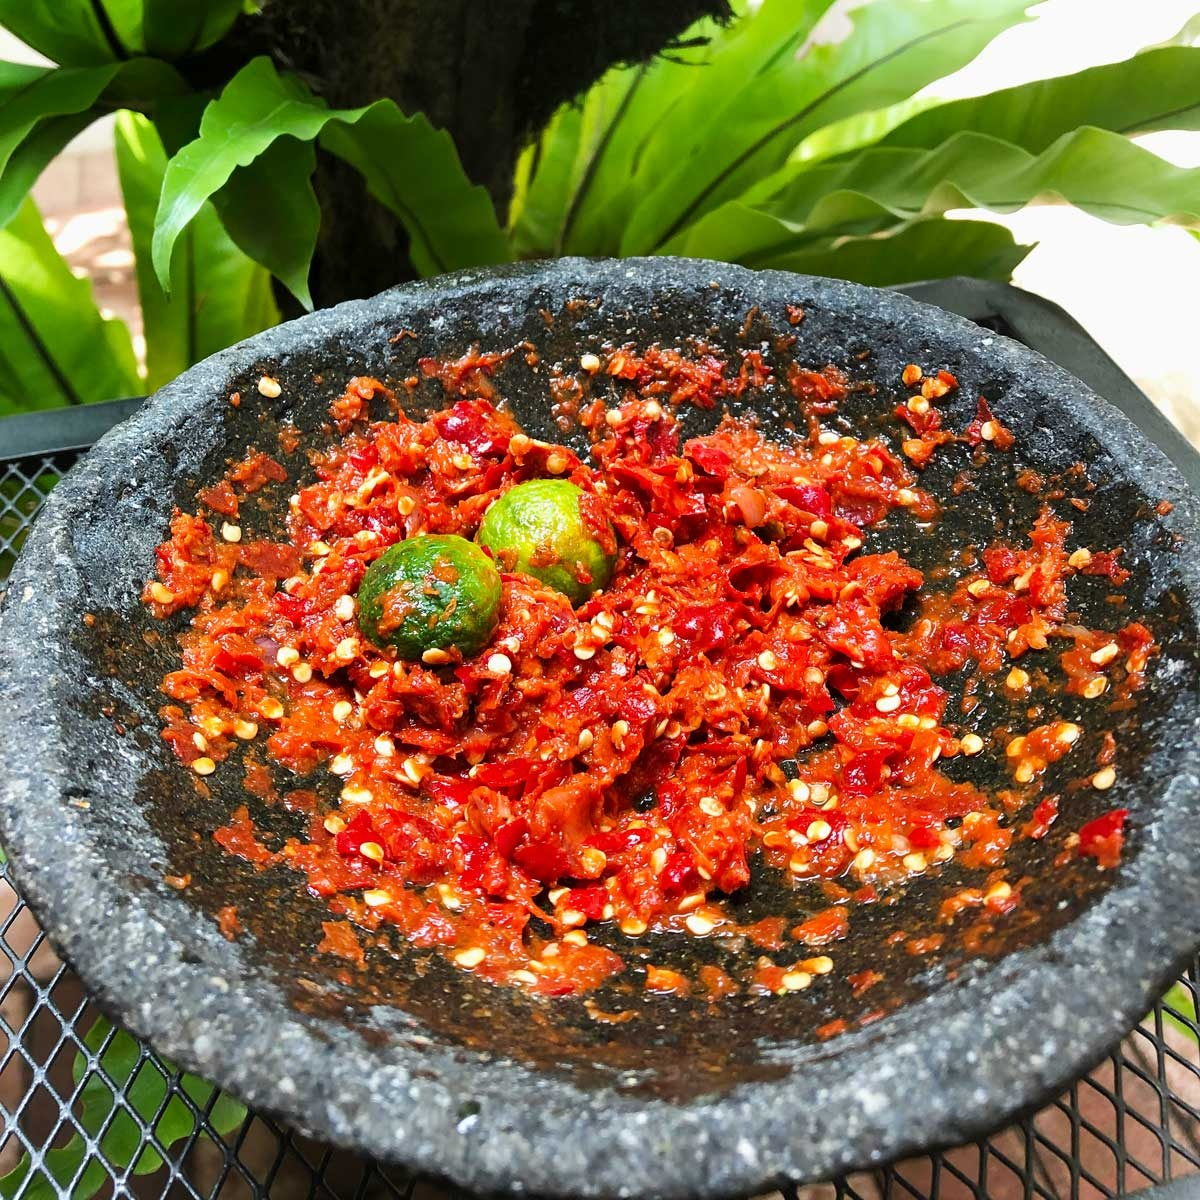sambal: (159, 373, 1063, 980)
